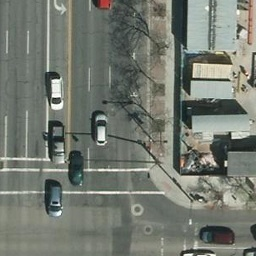car: (48, 125, 67, 166), (67, 151, 87, 188), (47, 75, 67, 109), (200, 226, 235, 245), (92, 113, 109, 148), (47, 184, 64, 217)
